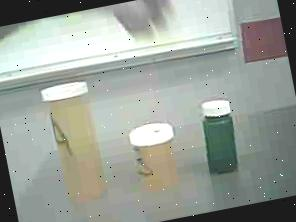Bottle A: (37, 70, 124, 213)
Bottle B: (124, 115, 190, 198)
Bottle C: (192, 92, 250, 182)
